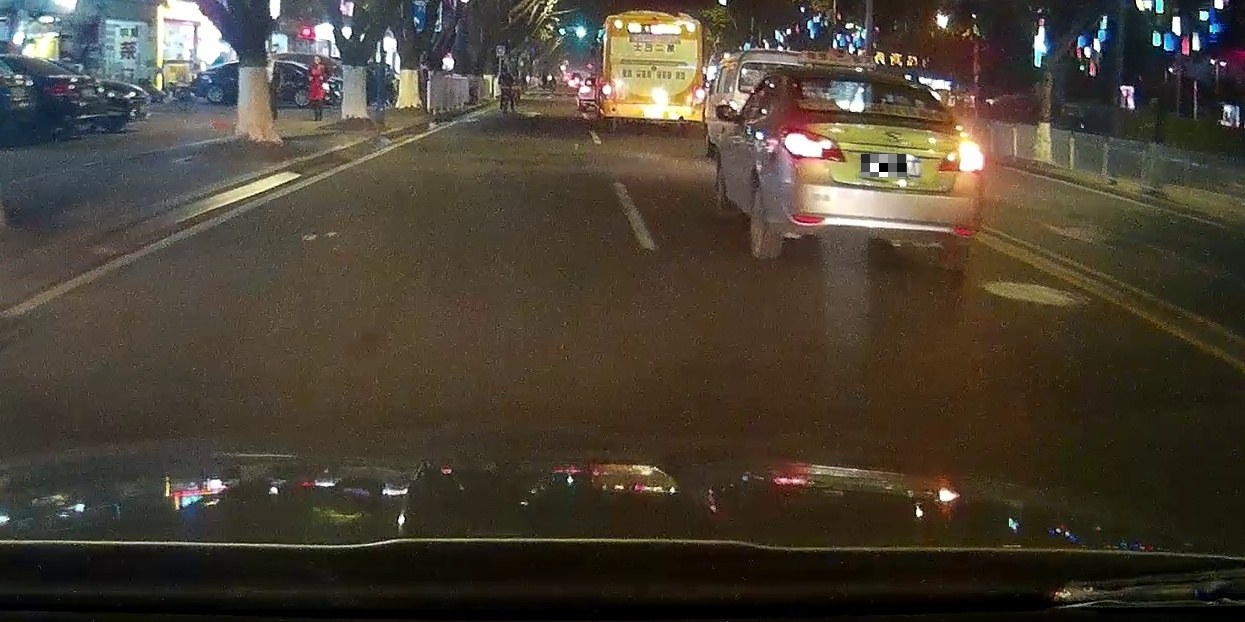L_light: (779, 127, 847, 163), (601, 81, 614, 100)
R_light: (938, 139, 986, 173), (691, 83, 705, 104)
T_light: (863, 81, 891, 87), (643, 21, 660, 26)
night-no: (601, 12, 706, 139)
night-right: (777, 67, 987, 272)
plate_1: (861, 154, 907, 177)
